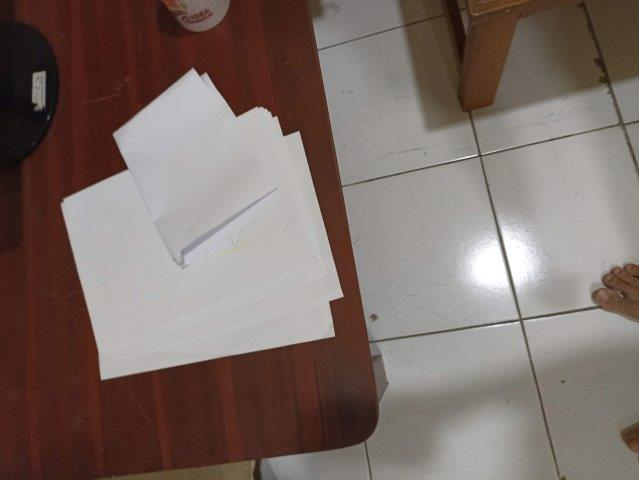kertas: (62, 68, 343, 380)
